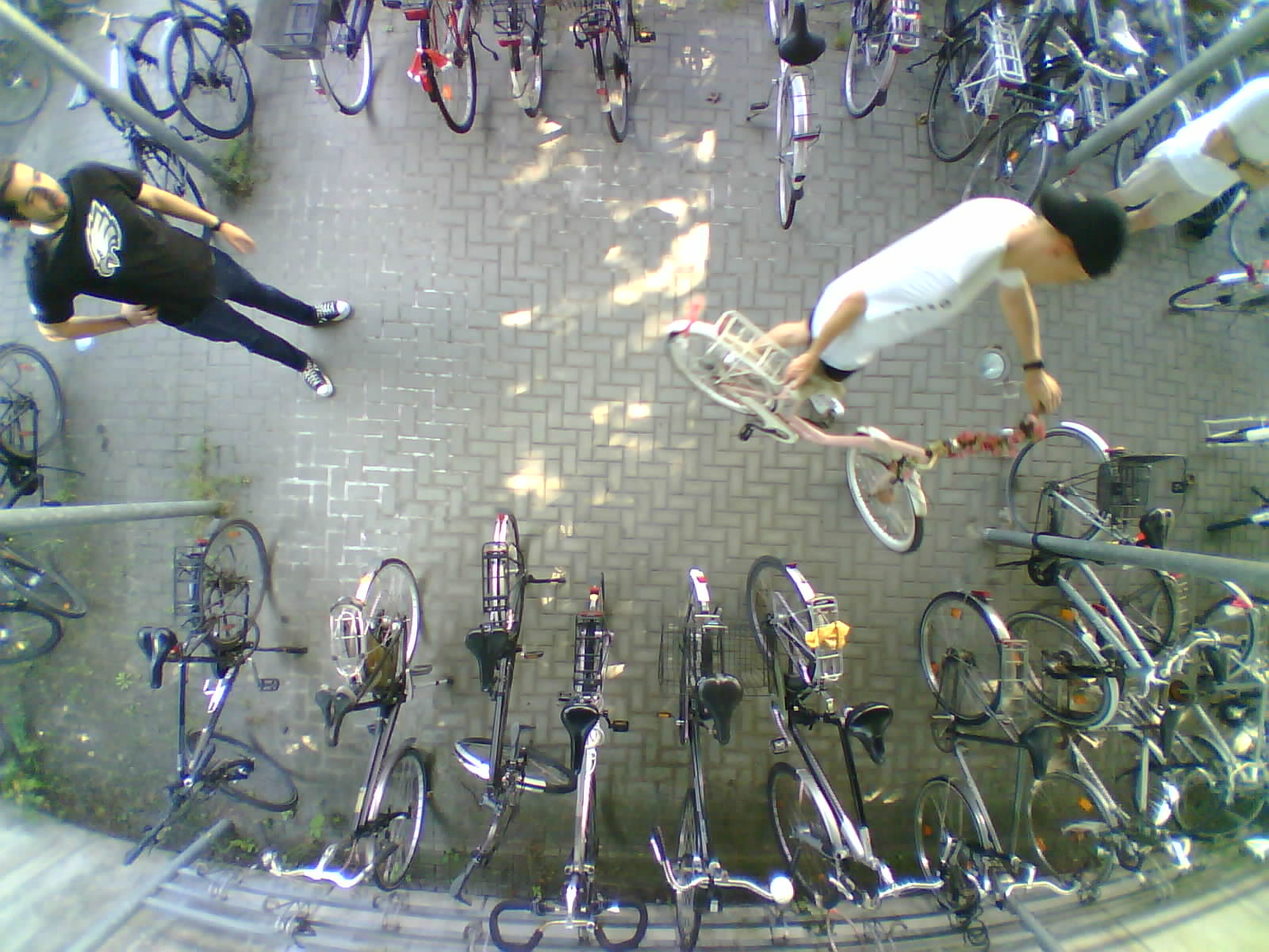bicylce: (669, 310, 961, 504), (999, 409, 1158, 724), (1083, 547, 1256, 832), (1033, 588, 1152, 908), (753, 551, 863, 897), (166, 515, 283, 833), (658, 571, 749, 952), (323, 559, 423, 885), (929, 587, 1015, 914), (470, 513, 543, 886), (555, 572, 622, 947), (91, 1, 197, 238), (977, 0, 1072, 250)
saddle: (841, 696, 897, 768), (775, 0, 828, 72), (698, 670, 746, 748), (791, 357, 851, 408), (1019, 718, 1066, 780), (466, 630, 512, 693), (560, 704, 598, 772), (139, 623, 177, 690), (315, 685, 356, 744), (1106, 11, 1150, 61), (1140, 501, 1179, 556), (1153, 697, 1184, 760), (64, 75, 94, 115), (1204, 638, 1228, 685), (1246, 79, 1269, 119)
